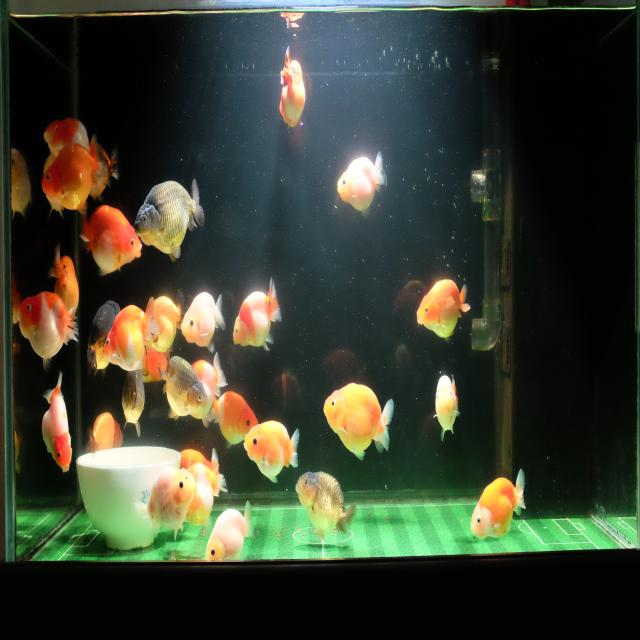Tilapia: (133, 175, 206, 264), (322, 378, 396, 464), (15, 288, 80, 374), (40, 133, 102, 221), (79, 200, 144, 282), (134, 465, 195, 545), (294, 468, 356, 546), (470, 466, 528, 544), (102, 295, 160, 372), (37, 371, 75, 478), (242, 418, 300, 488), (231, 274, 282, 352), (183, 446, 230, 530), (415, 275, 471, 343), (158, 350, 208, 426), (337, 150, 388, 218), (208, 387, 260, 449), (180, 286, 227, 354), (204, 500, 255, 560), (46, 236, 80, 326), (140, 289, 187, 353), (277, 43, 307, 137), (42, 115, 98, 158), (431, 371, 462, 443), (83, 406, 124, 459), (88, 143, 123, 199), (120, 368, 147, 439), (10, 141, 33, 223)
